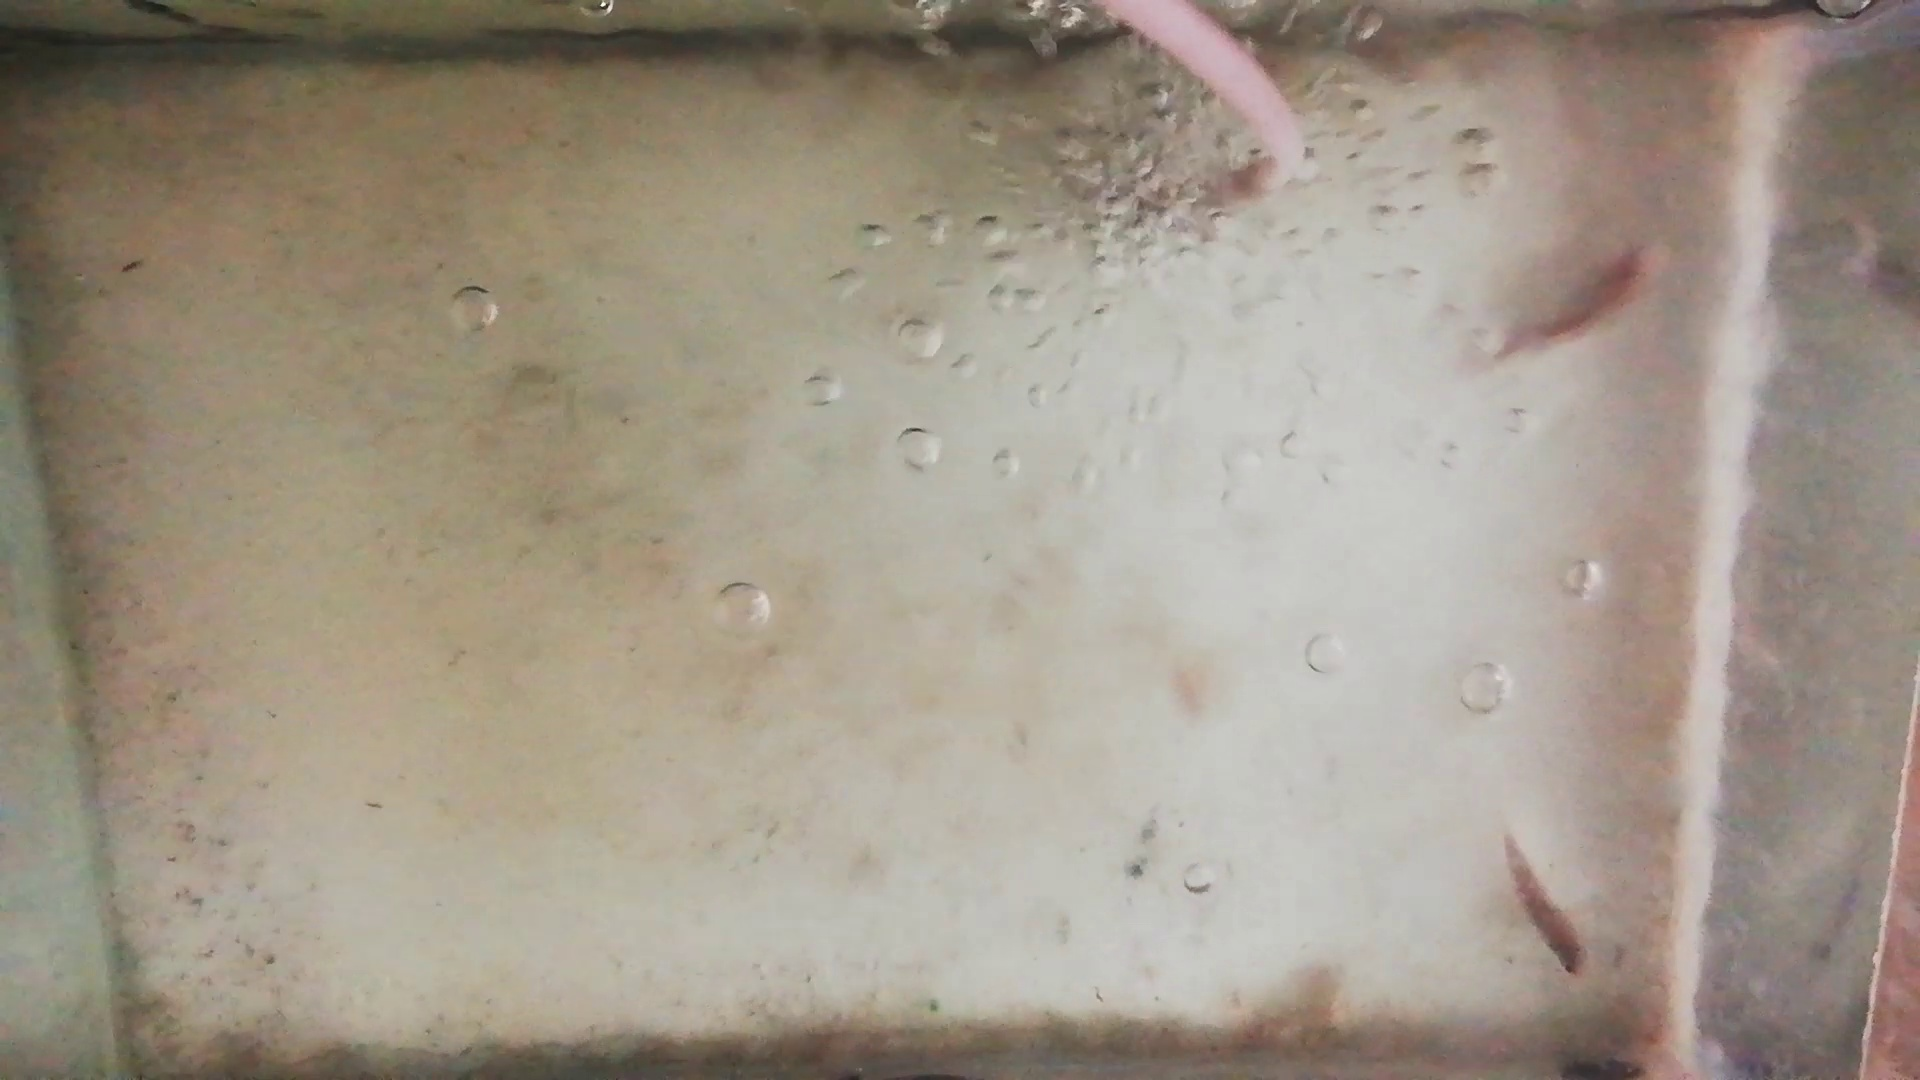fish: (1493, 245, 1664, 353), (1502, 829, 1589, 981)
